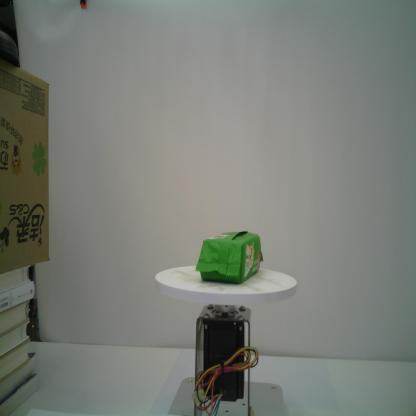Dessert: (193, 229, 265, 286)
